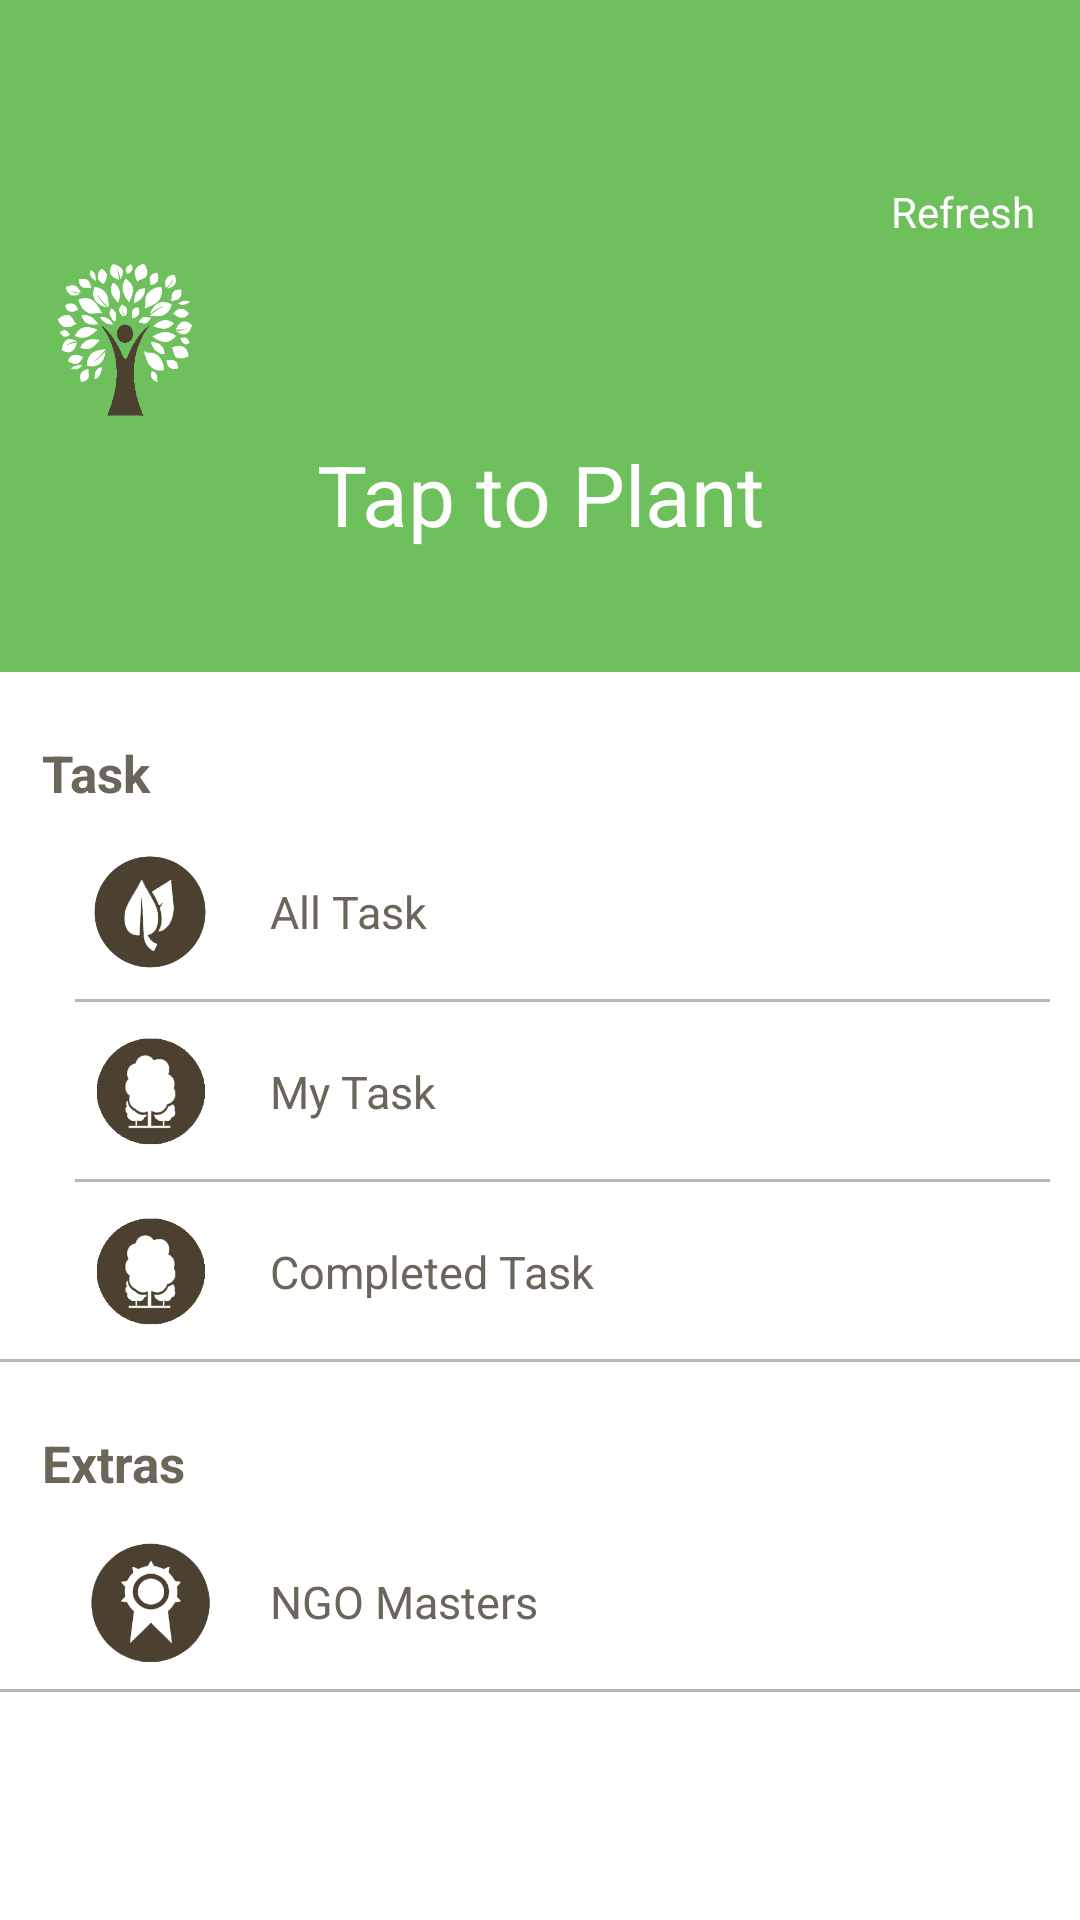

Icons on this 1080px x 1920px Android screen, each with its box as (x1, y1, x2, y2):
award: (91, 1543, 210, 1662)
